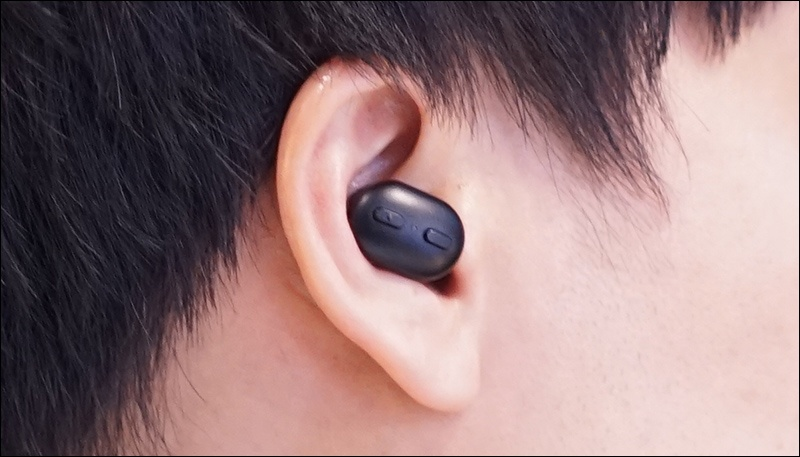earphone: (274, 52, 486, 408)
